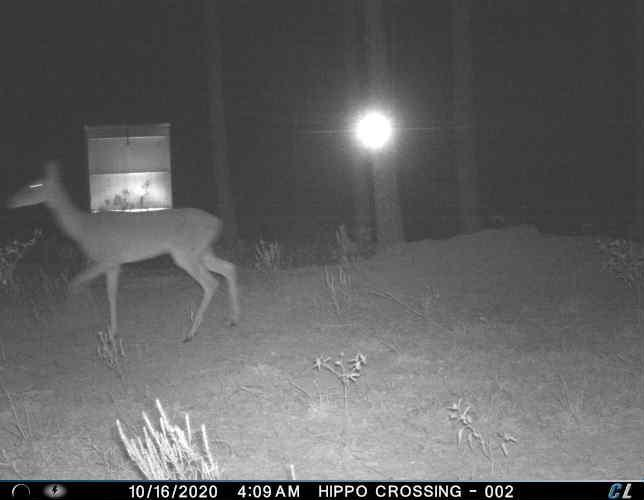Deer: (54, 157, 245, 403)
